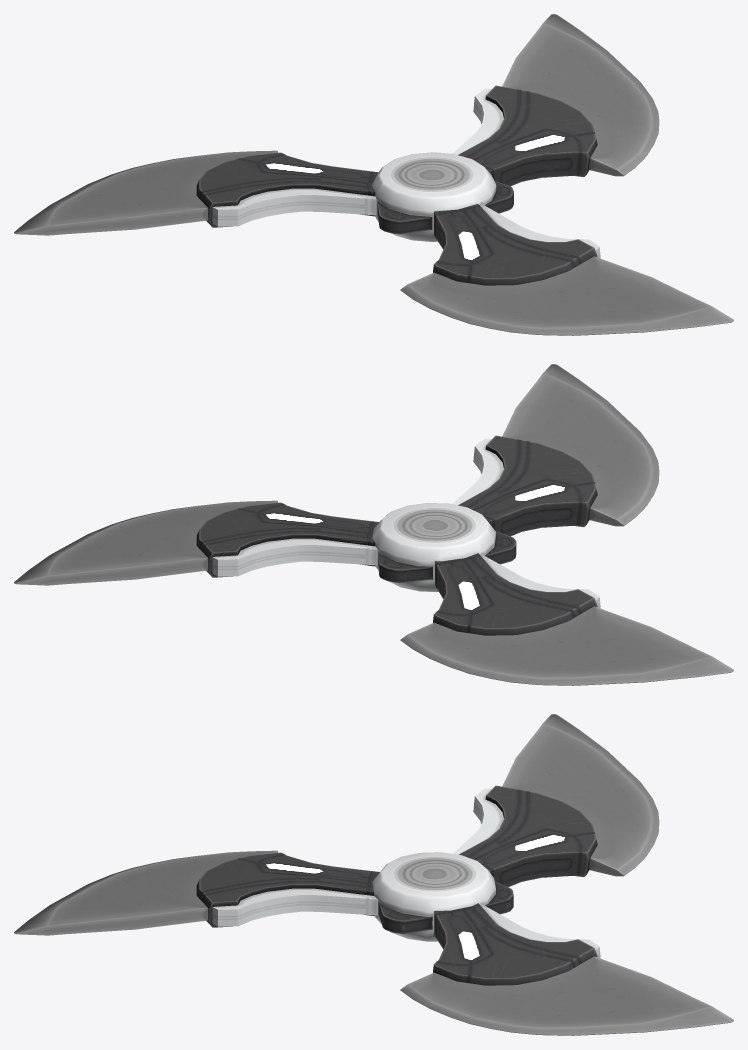
The model's file is MeleeShuriken03.FBX.
The picture shows the model from 3 angles, top to bottom: view 1: azimuth 30°, elevation 25°; view 2: azimuth 150°, elevation 25°; view 3: azimuth 270°, elevation 25°; orthographic projection.
Parts seen in each view (by area): view 1: MeleeShuriken03; view 2: MeleeShuriken03; view 3: MeleeShuriken03.
Part boxes in pixels (box(x1,y1,x2,y2)): MeleeShuriken03: box(14, 14, 733, 335); MeleeShuriken03: box(14, 364, 733, 685); MeleeShuriken03: box(14, 714, 733, 1035).
Size of what is drawn, in the model's own units: 0.2277 by 0.0153 by 0.2226.
